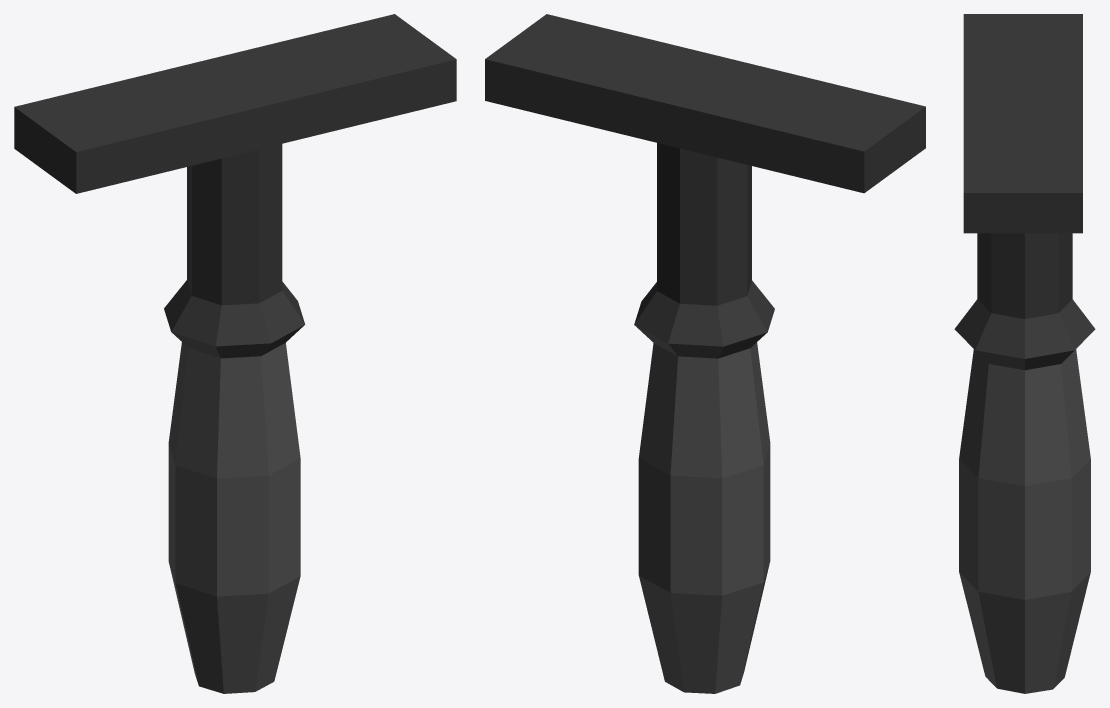
File: Accesories_Grip_V1.FBX
The picture shows the model from 3 angles, left to right: view 1: azimuth 30°, elevation 25°; view 2: azimuth 150°, elevation 25°; view 3: azimuth 270°, elevation 25°; orthographic projection. The views are drawn at different scales.
Parts seen in each view (by area): view 1: Accesories_Grip_V1; view 2: Accesories_Grip_V1; view 3: Accesories_Grip_V1.
Boxes of the visible parts, <box> form: Accesories_Grip_V1: <box>14,14,456,693</box>; Accesories_Grip_V1: <box>485,14,925,693</box>; Accesories_Grip_V1: <box>954,14,1095,693</box>.
Size of the model in its own units: 45.96 by 68.77 by 15.31.
